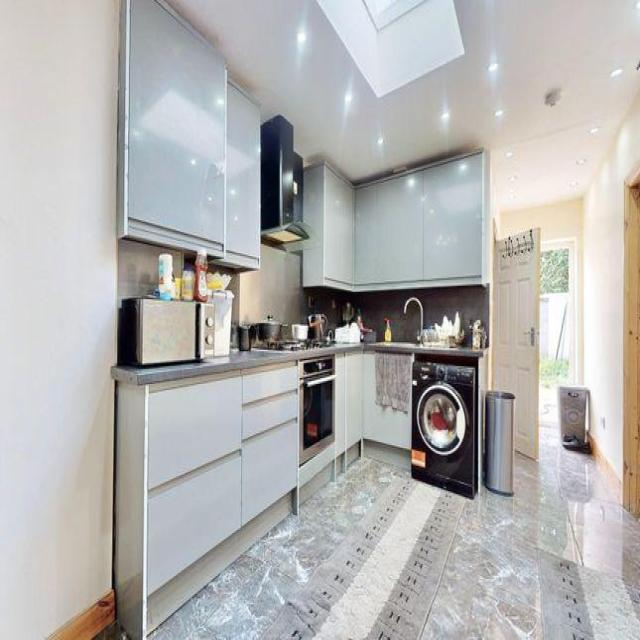Wall: (151, 431, 640, 639), (168, 0, 640, 209), (0, 0, 118, 638), (499, 92, 640, 486), (302, 285, 490, 344), (239, 244, 302, 324), (118, 240, 184, 307)
